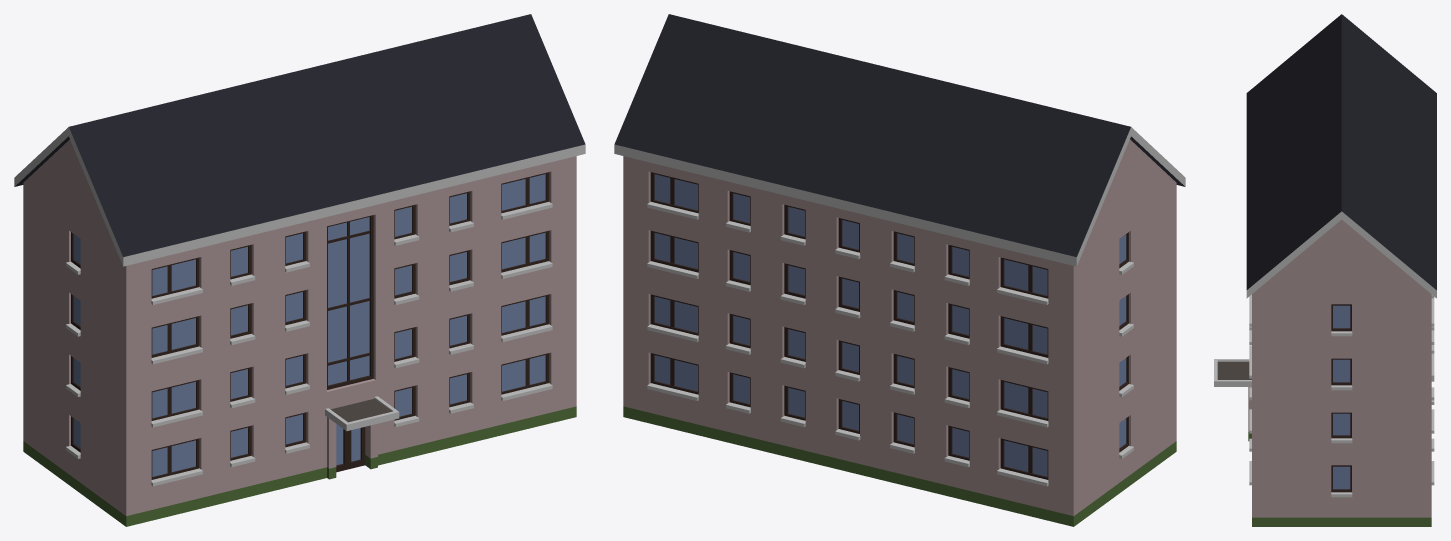
File: ApartmentBuilding_16.fbx
3 renders of one model, left to right at view 1: azimuth 30°, elevation 25°; view 2: azimuth 150°, elevation 25°; view 3: azimuth 270°, elevation 25°, orthographic. The views are drawn at different scales.
Parts seen in each view (by area): view 1: ApartmentBuilding_16; view 2: ApartmentBuilding_16; view 3: ApartmentBuilding_16.
Part boxes in pixels (x1=…): ApartmentBuilding_16: x1=14, y1=14, x2=585, y2=526; ApartmentBuilding_16: x1=614, y1=14, x2=1185, y2=526; ApartmentBuilding_16: x1=1214, y1=14, x2=1436, y2=526.
Size of the model in its own units: 19.46 by 14.64 by 9.29.
